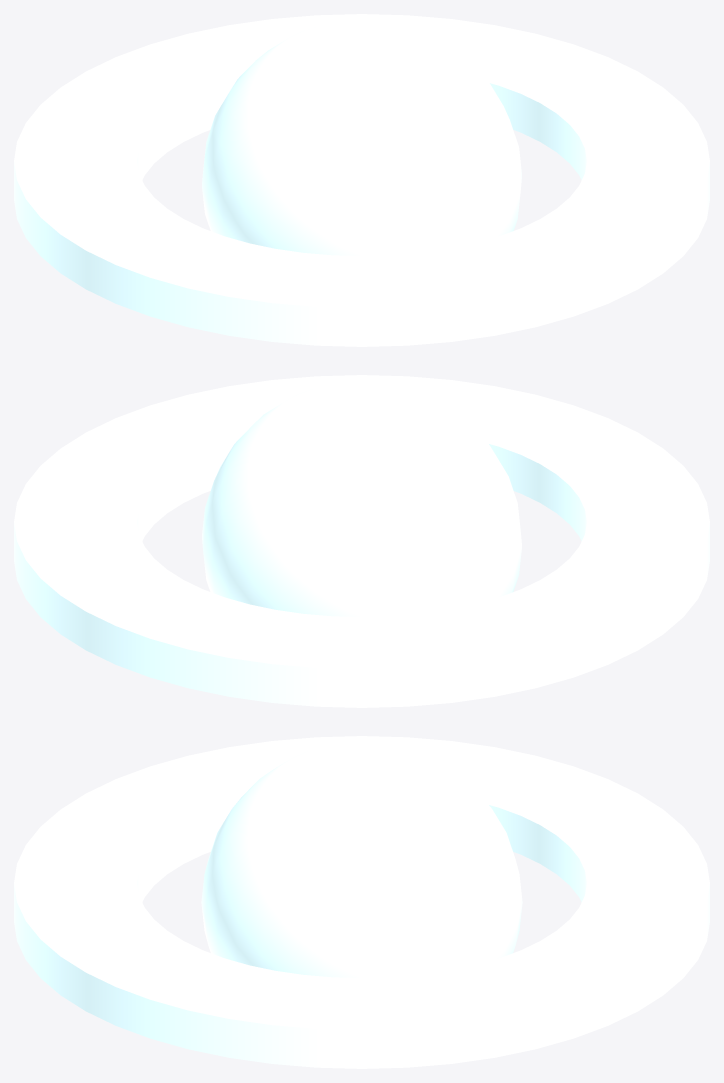
File: item-6-2.glb
3 views of the same model, one above another, from view 1: azimuth 30°, elevation 25°; view 2: azimuth 150°, elevation 25°; view 3: azimuth 270°, elevation 25° (orthographic).
Visible parts, largest first — view 1: plat, planet; view 2: plat, planet; view 3: plat, planet.
Boxes of the visible parts, bbox=[...] form: plat: bbox=[14, 14, 709, 346]; planet: bbox=[202, 20, 521, 255]; plat: bbox=[14, 375, 709, 707]; planet: bbox=[202, 381, 521, 616]; plat: bbox=[14, 736, 709, 1068]; planet: bbox=[201, 742, 522, 977].
Bounding box in the file's own units: 1.3 × 0.6 × 1.3.
